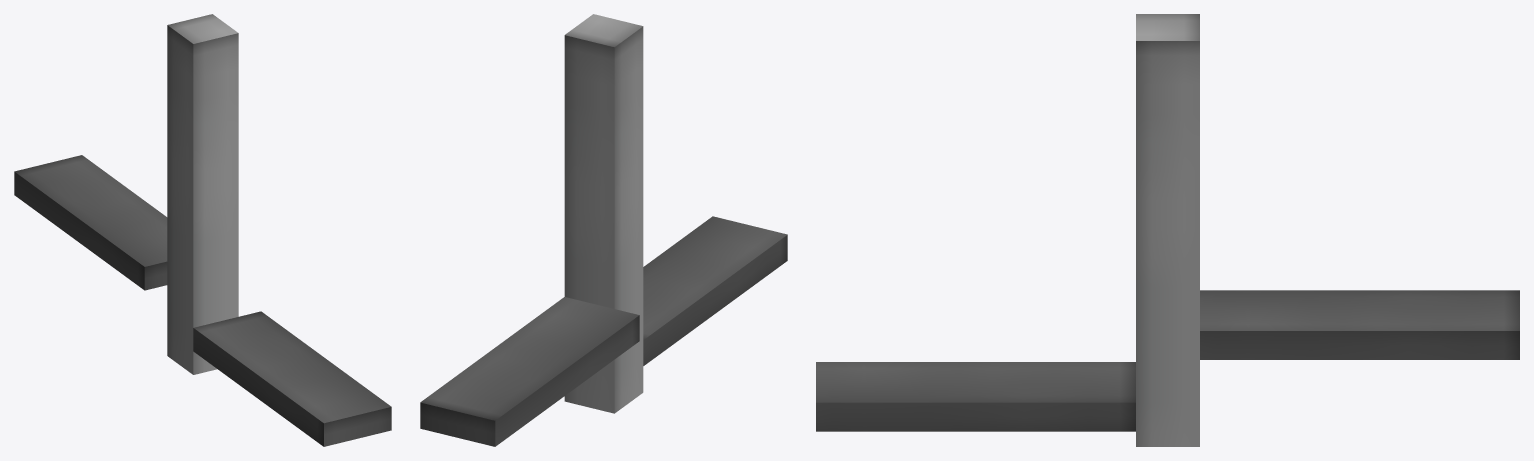
Rendered from food_processor_cutter.obj.
The picture shows the model from 3 angles, left to right: view 1: azimuth 30°, elevation 25°; view 2: azimuth 150°, elevation 25°; view 3: azimuth 270°, elevation 25°; orthographic projection. The views are drawn at different scales.
Visible parts, largest first — view 1: base; view 2: base; view 3: base.
Boxes of the visible parts, box(x1,y1,x2,y2) form: base: box(14, 14, 391, 446); base: box(420, 14, 787, 446); base: box(816, 14, 1519, 446).
Size of the model in its own units: 0.25 by 0.875 by 1.38.
